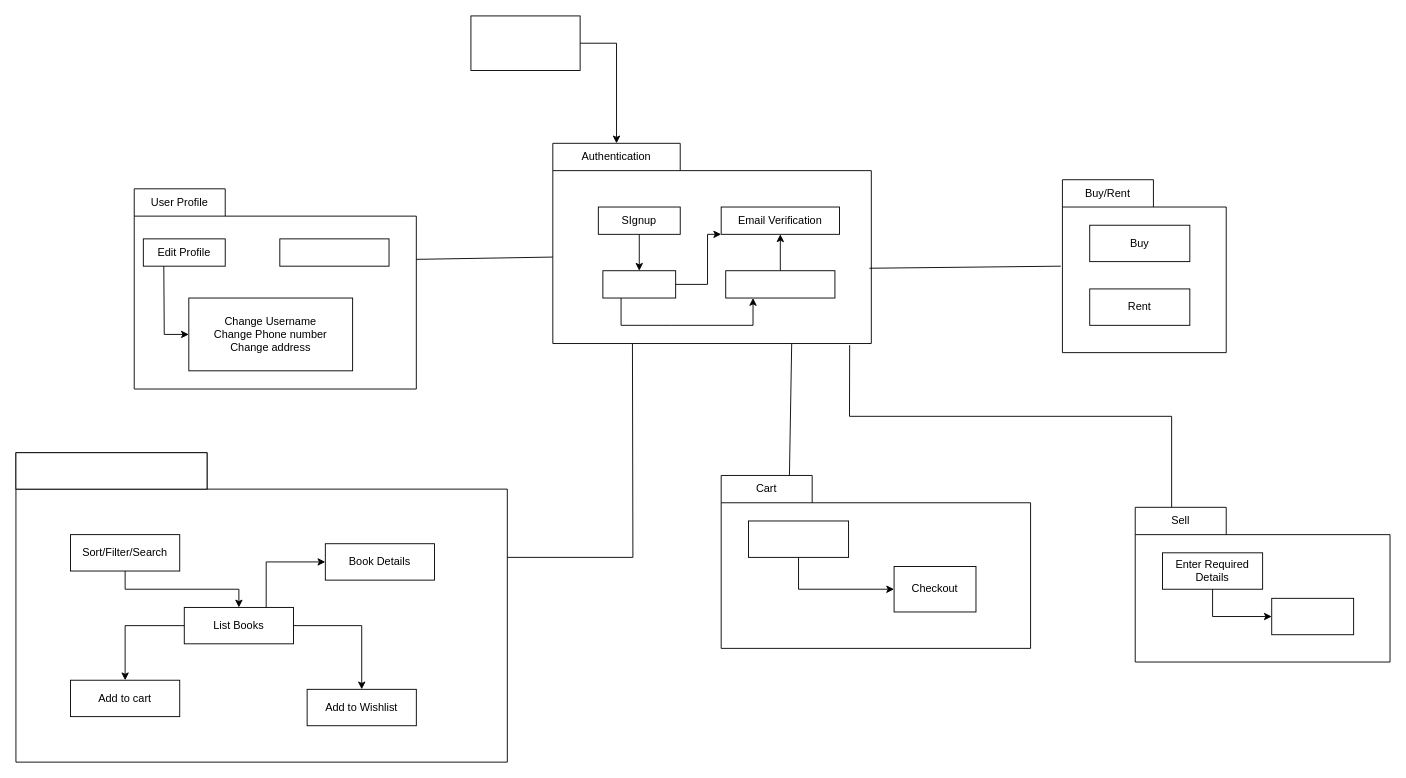
Image size: 1406x778. Some labels were removed from this diagram. Here are the shapes that lost their labels. From the top down, the centre of each, then its label:
At point (525, 43): "User".
At point (334, 252): "Reader's Score".
At point (639, 284): "Login".
At point (780, 284): "Forgot Password".
At point (111, 470): "View Books".
At point (798, 538): "List of Books".
At point (1312, 616): "Set Price".
